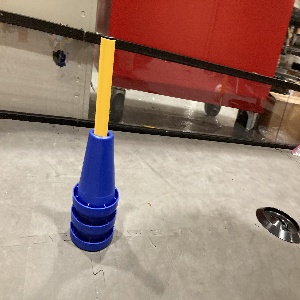Blue_3: (62, 119, 122, 254)
